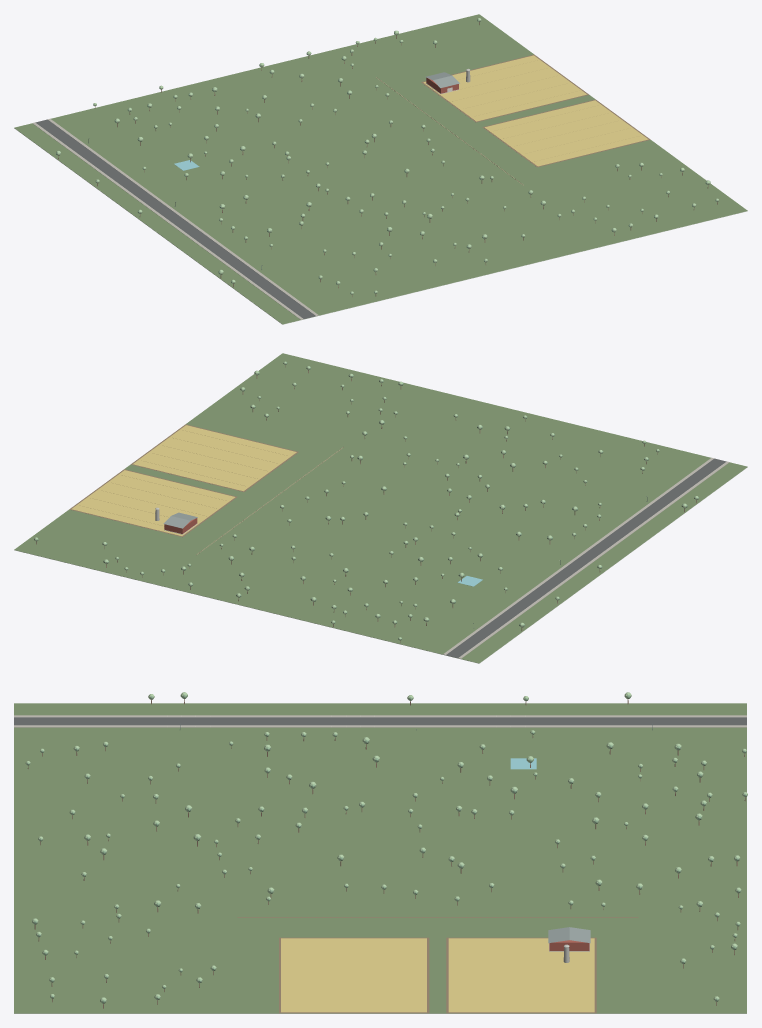
File: chunk_4_1_high.glb
The picture shows the model from 3 angles, top to bottom: view 1: azimuth 30°, elevation 25°; view 2: azimuth 150°, elevation 25°; view 3: azimuth 270°, elevation 25°; orthographic projection. The views are drawn at different scales.
Visible parts, largest first — view 1: city_forest_floor, city_field_wheat, city_world_asphalt, city_foliage, city_world_sidewalk, city_field_soil, city_grass, city_foliage_dark, city_curb; view 2: city_forest_floor, city_field_wheat, city_world_asphalt, city_foliage, city_world_sidewalk, city_field_soil, city_foliage_dark, city_grass, city_curb, city_bark; view 3: city_forest_floor, city_field_wheat, city_world_asphalt, city_world_sidewalk, city_foliage, city_field_soil, city_foliage_dark, city_curb, city_bark, city_grass, city_roof_slate.
Part boxes in pixels (bbox=[...]): city_forest_floor: bbox=[14, 14, 747, 324]; city_field_wheat: bbox=[423, 55, 648, 166]; city_world_asphalt: bbox=[35, 119, 315, 318]; city_foliage: bbox=[56, 18, 718, 294]; city_world_sidewalk: bbox=[32, 118, 318, 319]; city_field_soil: bbox=[421, 54, 650, 167]; city_grass: bbox=[14, 128, 747, 324]; city_foliage_dark: bbox=[56, 19, 716, 293]; city_curb: bbox=[35, 119, 315, 318]; city_forest_floor: bbox=[14, 353, 747, 663]; city_field_wheat: bbox=[71, 425, 296, 535]; city_world_asphalt: bbox=[446, 458, 726, 657]; city_foliage: bbox=[34, 361, 697, 640]; city_world_sidewalk: bbox=[443, 457, 729, 658]; city_field_soil: bbox=[69, 424, 298, 536]; city_foliage_dark: bbox=[34, 362, 698, 639]; city_grass: bbox=[14, 467, 747, 663]; city_curb: bbox=[446, 458, 726, 657]; city_bark: bbox=[36, 365, 696, 642]; city_forest_floor: bbox=[14, 703, 746, 1013]; city_field_wheat: bbox=[281, 938, 594, 1012]; city_world_asphalt: bbox=[14, 717, 746, 725]; city_world_sidewalk: bbox=[14, 715, 746, 727]; city_foliage: bbox=[25, 692, 747, 1003]; city_field_soil: bbox=[279, 937, 596, 1013]; city_foliage_dark: bbox=[27, 694, 746, 1003]; city_curb: bbox=[14, 715, 746, 726]; city_bark: bbox=[27, 699, 745, 1008]; city_grass: bbox=[14, 1013, 746, 1013]; city_roof_slate: bbox=[548, 927, 590, 943].
Size of the model in its own units: 514 by 13.64 by 513.
